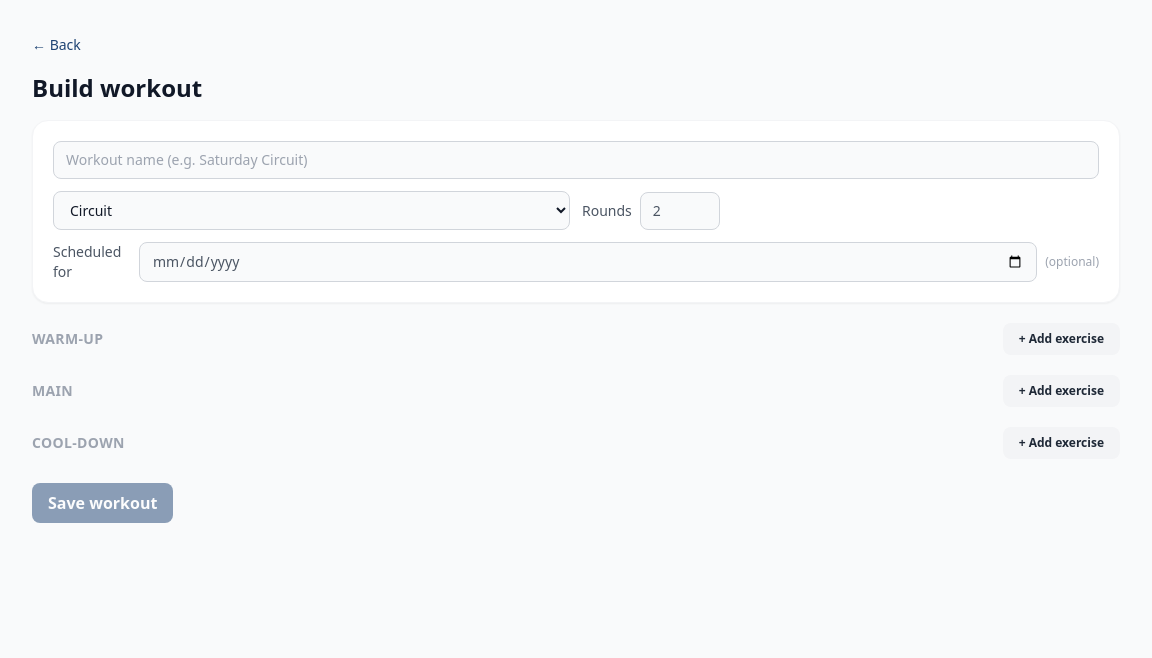
Scenario: WorkoutBuilderView › adds an exercise to a section via the picker
Click the button with test id "add-main".
click(1061, 391)  # box top-left (1003, 375), bottom-right (1120, 407)
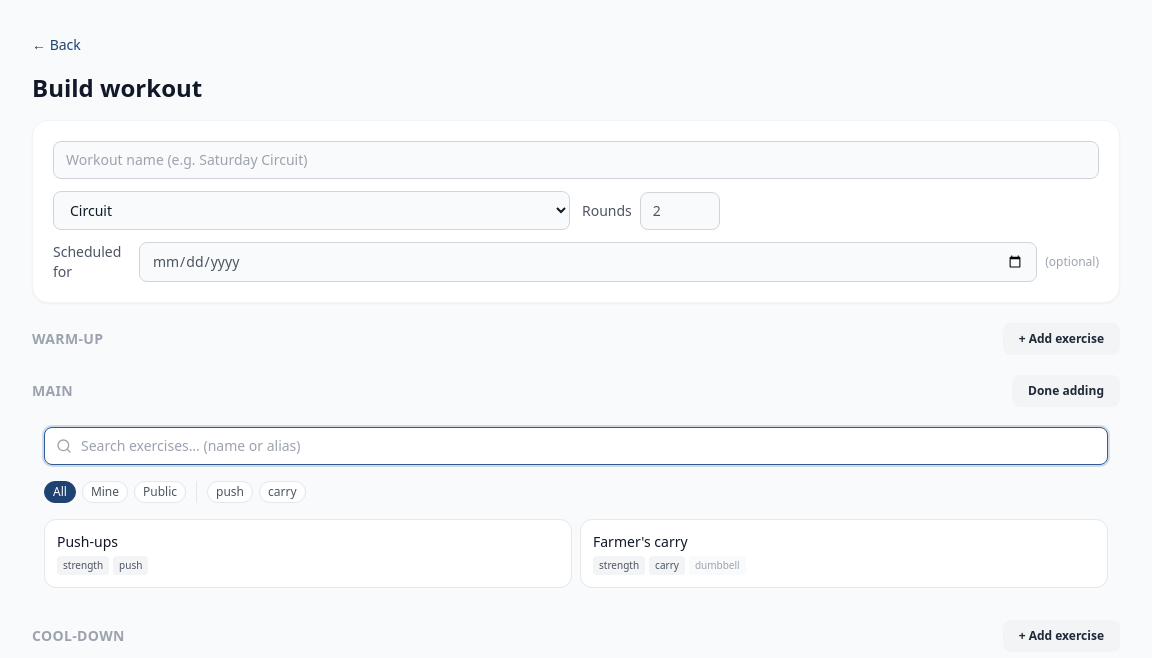
Click the button with test id "ex-pushups".
click(87, 542)  # box top-left (44, 519), bottom-right (572, 588)
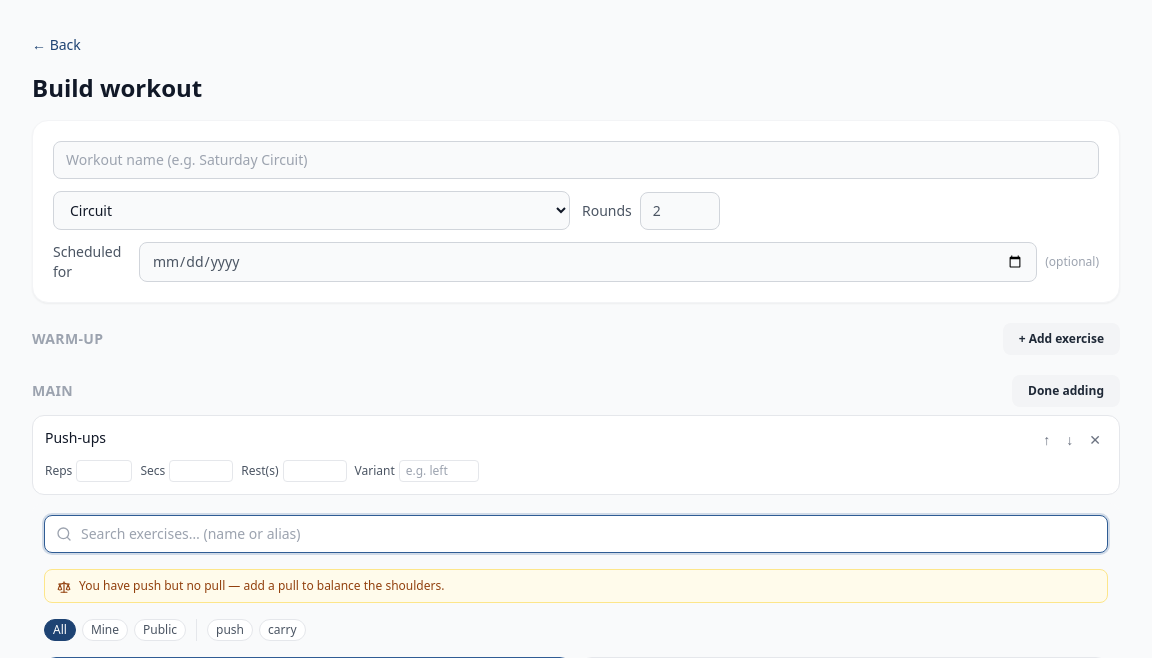
Check: the element with test id "item-pushups" is shown, box top-left (32, 415), bottom-right (1120, 495)
